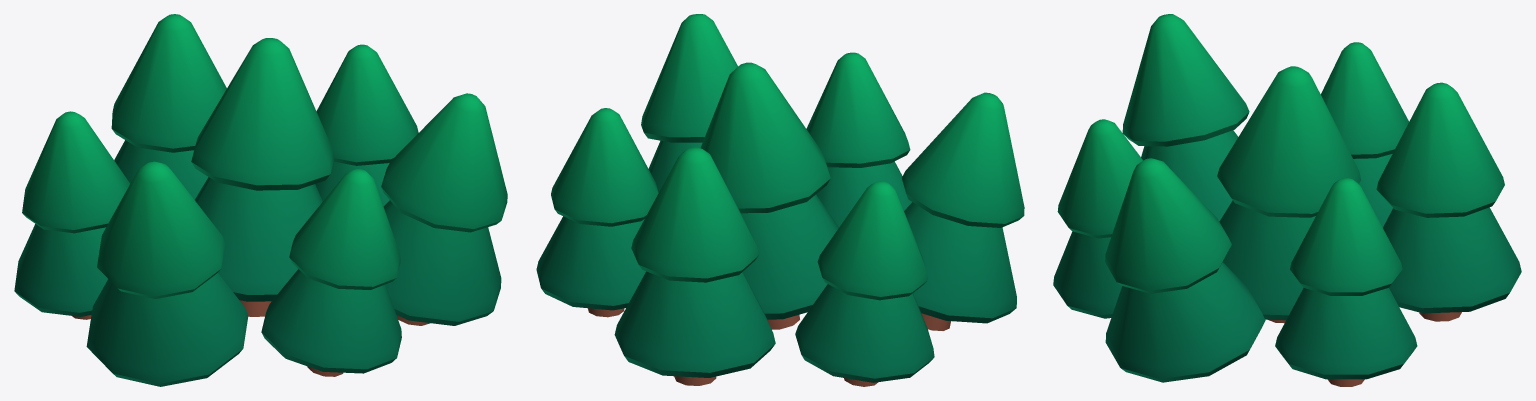
The model's file is hex_trees_b_large.glb.
3 renders of one model, left to right at view 1: azimuth 30°, elevation 25°; view 2: azimuth 150°, elevation 25°; view 3: azimuth 270°, elevation 25°, orthographic. The views are drawn at different scales.
Parts seen in each view (by area): view 1: hex_trees_b_large; view 2: hex_trees_b_large; view 3: hex_trees_b_large.
Boxes of the visible parts, x1=… form: hex_trees_b_large: x1=14, y1=14, x2=507, y2=386; hex_trees_b_large: x1=536, y1=14, x2=1024, y2=386; hex_trees_b_large: x1=1053, y1=14, x2=1521, y2=386.
Bounding box in the file's own units: 0.9246 × 0.5873 × 0.9662.
Materials: 1 (1 with a texture image).
